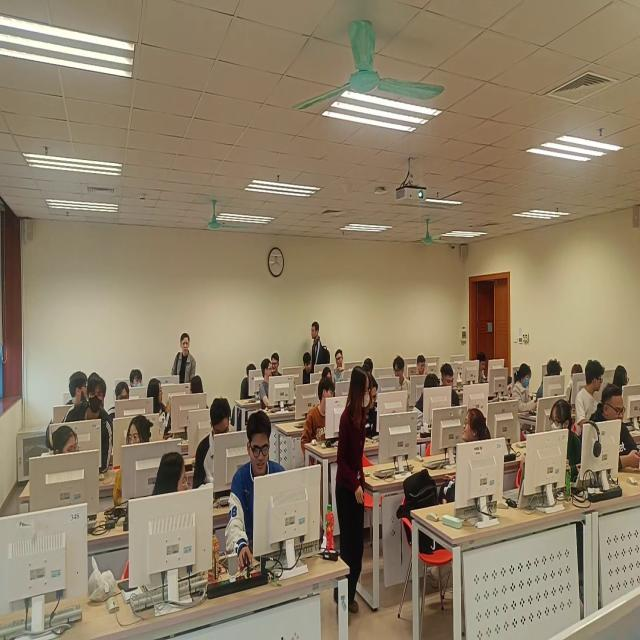raise_head: (130, 367, 145, 394)
stand: (336, 366, 373, 629), (63, 373, 113, 475), (173, 331, 198, 393), (312, 320, 332, 380)
using_computer: (226, 411, 288, 575), (587, 382, 640, 477), (194, 396, 239, 493), (575, 358, 607, 441), (513, 362, 539, 418), (367, 369, 381, 442), (107, 379, 131, 421), (239, 362, 262, 404), (442, 363, 462, 410), (301, 350, 317, 389), (475, 353, 494, 385), (613, 364, 632, 394), (416, 351, 427, 377), (365, 359, 375, 376)
